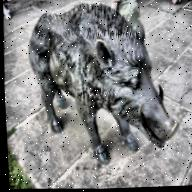boar: (19, 0, 192, 183)
